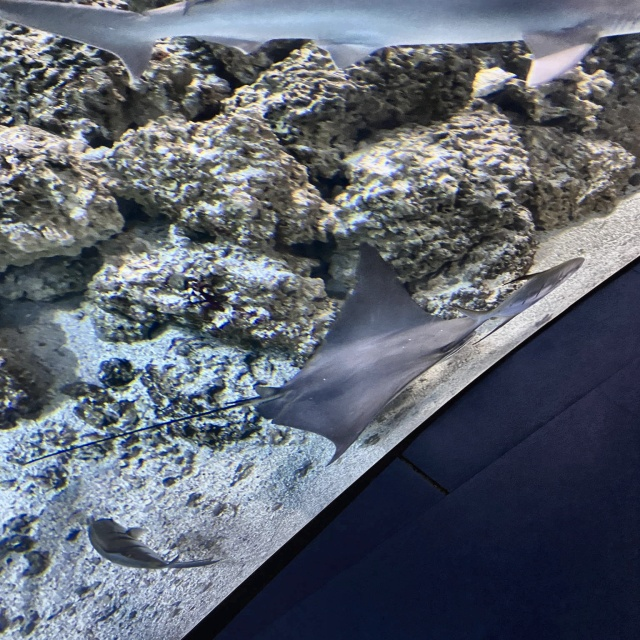fish: (458, 256, 585, 333), (88, 518, 212, 568)
shark: (0, 0, 639, 89)
stingray: (252, 238, 480, 465)
